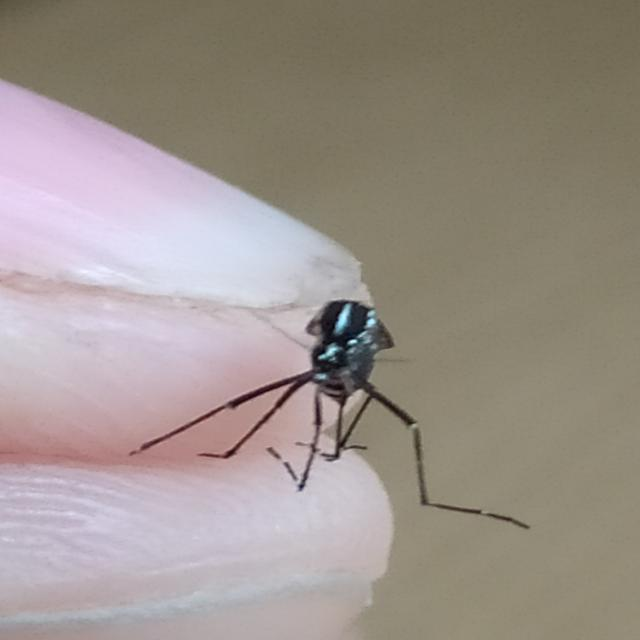albopictus: (129, 272, 501, 526)
